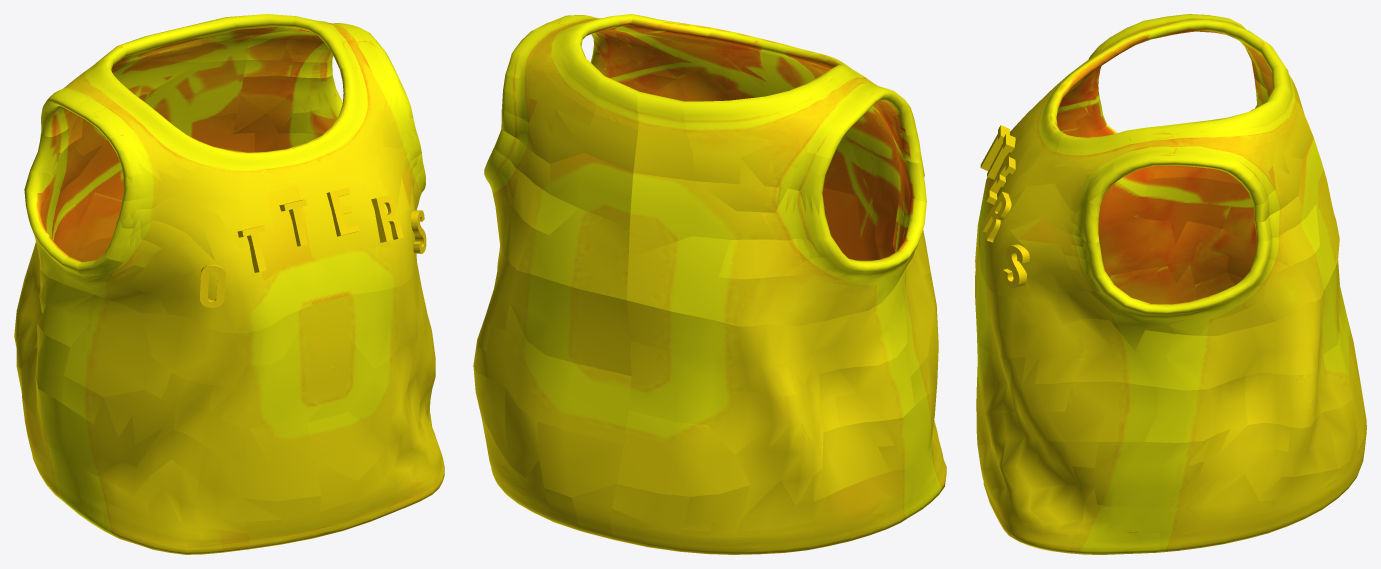
Rendered from Basketball-Gold.glb.
3 views of the same model, side by side, from view 1: azimuth 30°, elevation 25°; view 2: azimuth 150°, elevation 25°; view 3: azimuth 270°, elevation 25° (orthographic). The views are drawn at different scales.
Visible parts, largest first — view 1: Mesh_0; view 2: Mesh_0; view 3: Mesh_0.
Boxes of the visible parts, box(x1,y1,x2,y2) form: Mesh_0: box(14, 14, 444, 554); Mesh_0: box(473, 14, 946, 554); Mesh_0: box(975, 14, 1366, 554).
Bounding box in the file's own units: 0.3436 × 0.364 × 0.316.
Materials: 2 (1 with a texture image).
